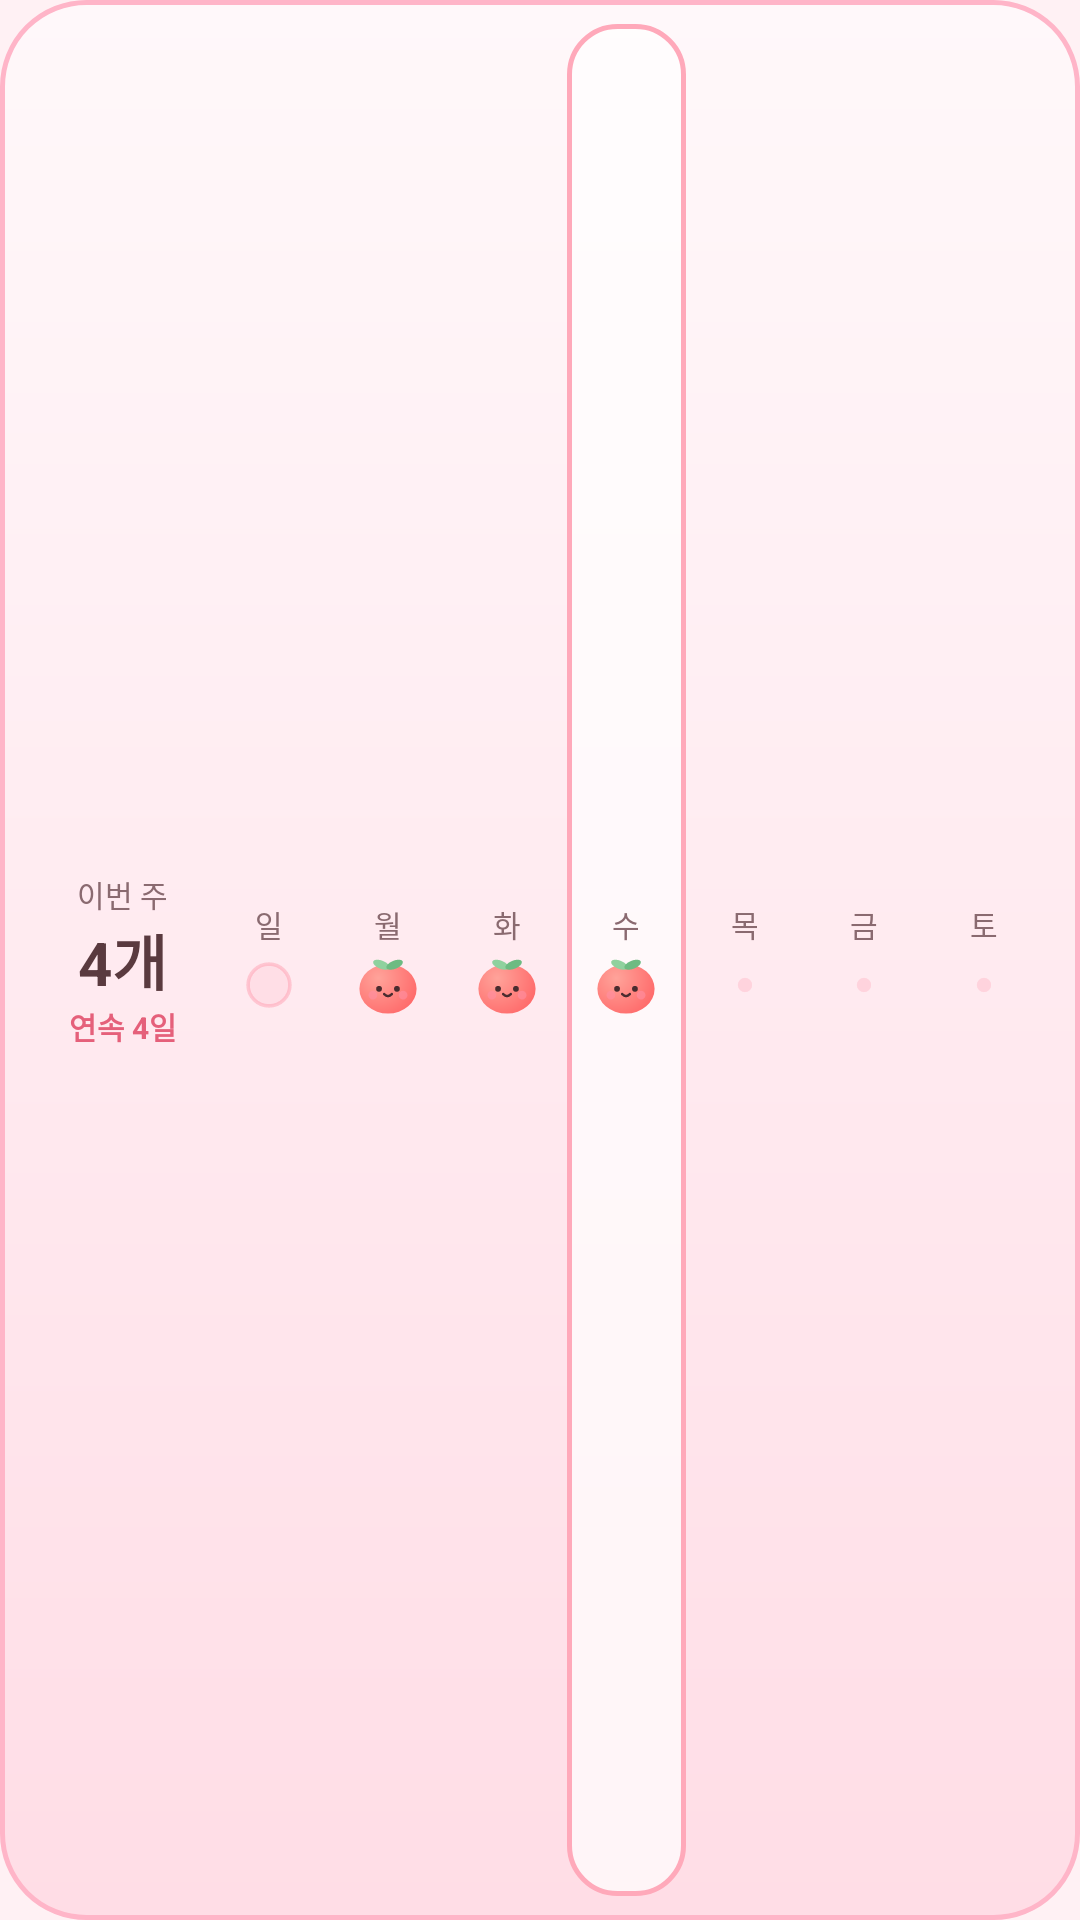

Icon click points for this 1080*1920 phone screenshot, format [x,y]:
widget tomato: [388,986], [507,986], [626,986]
widget tomato empty: [269,985]
